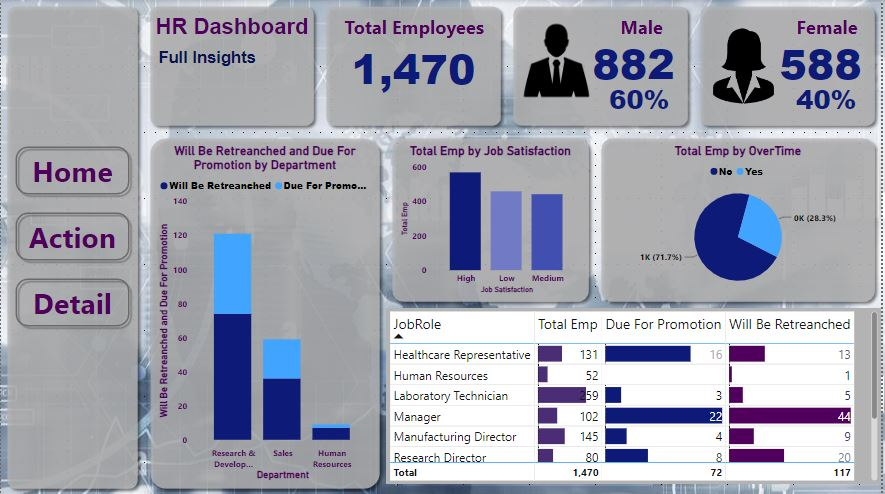

The dashboard page shown, as its layout file describes it:
{"tool":"powerbi","page":{"name":"Detail","canvas":[1280,720],"ordinal":2},"visuals":[{"type":"shape","box":[0,0,208,720],"z":0},{"type":"shape","box":[208,0,256,192],"z":1000},{"type":"shape","box":[464,0,272,192],"z":2000},{"type":"shape","box":[736,0,272,192],"z":3000},{"type":"shape","box":[1008,0,272,192],"z":4000},{"type":"textbox","box":[208,16,256,48],"z":5000},{"type":"textbox","box":[224,64,224,48],"z":6000},{"type":"textbox","box":[480,16,256,80],"z":7000},{"type":"textbox","box":[896,16,112,48],"z":8000},{"type":"textbox","box":[1152,16,128,48],"z":9000},{"type":"card","fields":{"Values":["New Measure.Total Emp"]},"box":[448,48,304,96],"z":10000},{"type":"card","fields":{"Values":["New Measure.Male"]},"box":[832,48,176,80],"z":11000},{"type":"card","fields":{"Values":["New Measure.% male"]},"box":[864,112,128,64],"z":12000},{"type":"card","fields":{"Values":["New Measure.female"]},"box":[1104,48,176,80],"z":13000},{"type":"card","fields":{"Values":["New Measure.% female"]},"box":[1136,112,128,64],"z":14000},{"type":"image","box":[736,0,144,176],"z":15000},{"type":"image","box":[1008,32,144,128],"z":16000},{"type":"shape","box":[208,192,352,528],"z":17000},{"type":"columnChart","fields":{"Category":["HR Analytics Data.Department"],"Y":["New Measure.Will Be Retreanched","New Measure.Due For Promotion"]},"box":[224,208,320,496],"z":18000},{"type":"shape","box":[560,192,304,256],"z":19000},{"type":"shape","box":[864,192,416,256],"z":20000},{"type":"columnChart","fields":{"Category":["HR Analytics Data.Job Satisfaction"],"Y":["New Measure.Total Emp"]},"box":[576,208,272,224],"z":21000},{"type":"pieChart","fields":{"Category":["HR Analytics Data.OverTime"],"Y":["New Measure.Total Emp"]},"box":[880,208,384,224],"z":22000},{"type":"tableEx","fields":{"Values":["HR Analytics Data.JobRole","New Measure.Total Emp","New Measure.Due For Promotion","New Measure.Will Be Retreanched"]},"box":[560,448,720,256],"z":23000},{"type":"actionButton","title":"Home","box":[16,208,176,80],"z":23001},{"type":"actionButton","title":"Action","box":[16,304,176,80],"z":23002},{"type":"actionButton","title":"Detail","box":[16,400,176,80],"z":23003}]}

Visuals, with their boxes in screenshot pixels (x1, y1, x2, y2), scaled from the page's 1280x720 canvas onto the 885x494 screenshot:
shape: [left=0, top=0, right=144, bottom=493]
shape: [left=144, top=0, right=321, bottom=132]
shape: [left=321, top=0, right=509, bottom=132]
shape: [left=509, top=0, right=697, bottom=132]
shape: [left=697, top=0, right=884, bottom=132]
textbox: [left=144, top=11, right=321, bottom=44]
textbox: [left=155, top=44, right=310, bottom=77]
textbox: [left=332, top=11, right=509, bottom=66]
textbox: [left=620, top=11, right=697, bottom=44]
textbox: [left=796, top=11, right=884, bottom=44]
card - New Measure.Total Emp: [left=310, top=33, right=520, bottom=99]
card - New Measure.Male: [left=575, top=33, right=697, bottom=88]
card - New Measure.% male: [left=597, top=77, right=686, bottom=121]
card - New Measure.female: [left=763, top=33, right=884, bottom=88]
card - New Measure.% female: [left=785, top=77, right=874, bottom=121]
image: [left=509, top=0, right=608, bottom=121]
image: [left=697, top=22, right=796, bottom=110]
shape: [left=144, top=132, right=387, bottom=493]
columnChart - HR Analytics Data.Department x New Measure.Will Be Retreanched: [left=155, top=143, right=376, bottom=483]
shape: [left=387, top=132, right=597, bottom=307]
shape: [left=597, top=132, right=884, bottom=307]
columnChart - HR Analytics Data.Job Satisfaction x New Measure.Total Emp: [left=398, top=143, right=586, bottom=296]
pieChart - HR Analytics Data.OverTime x New Measure.Total Emp: [left=608, top=143, right=874, bottom=296]
tableEx - HR Analytics Data.JobRole x New Measure.Total Emp: [left=387, top=307, right=884, bottom=483]
"Home" actionButton: [left=11, top=143, right=133, bottom=198]
"Action" actionButton: [left=11, top=209, right=133, bottom=263]
"Detail" actionButton: [left=11, top=274, right=133, bottom=329]
